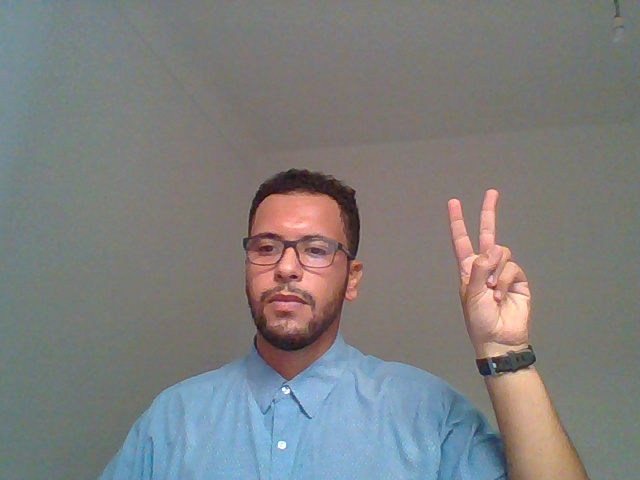vectory: (409, 176, 569, 447)
